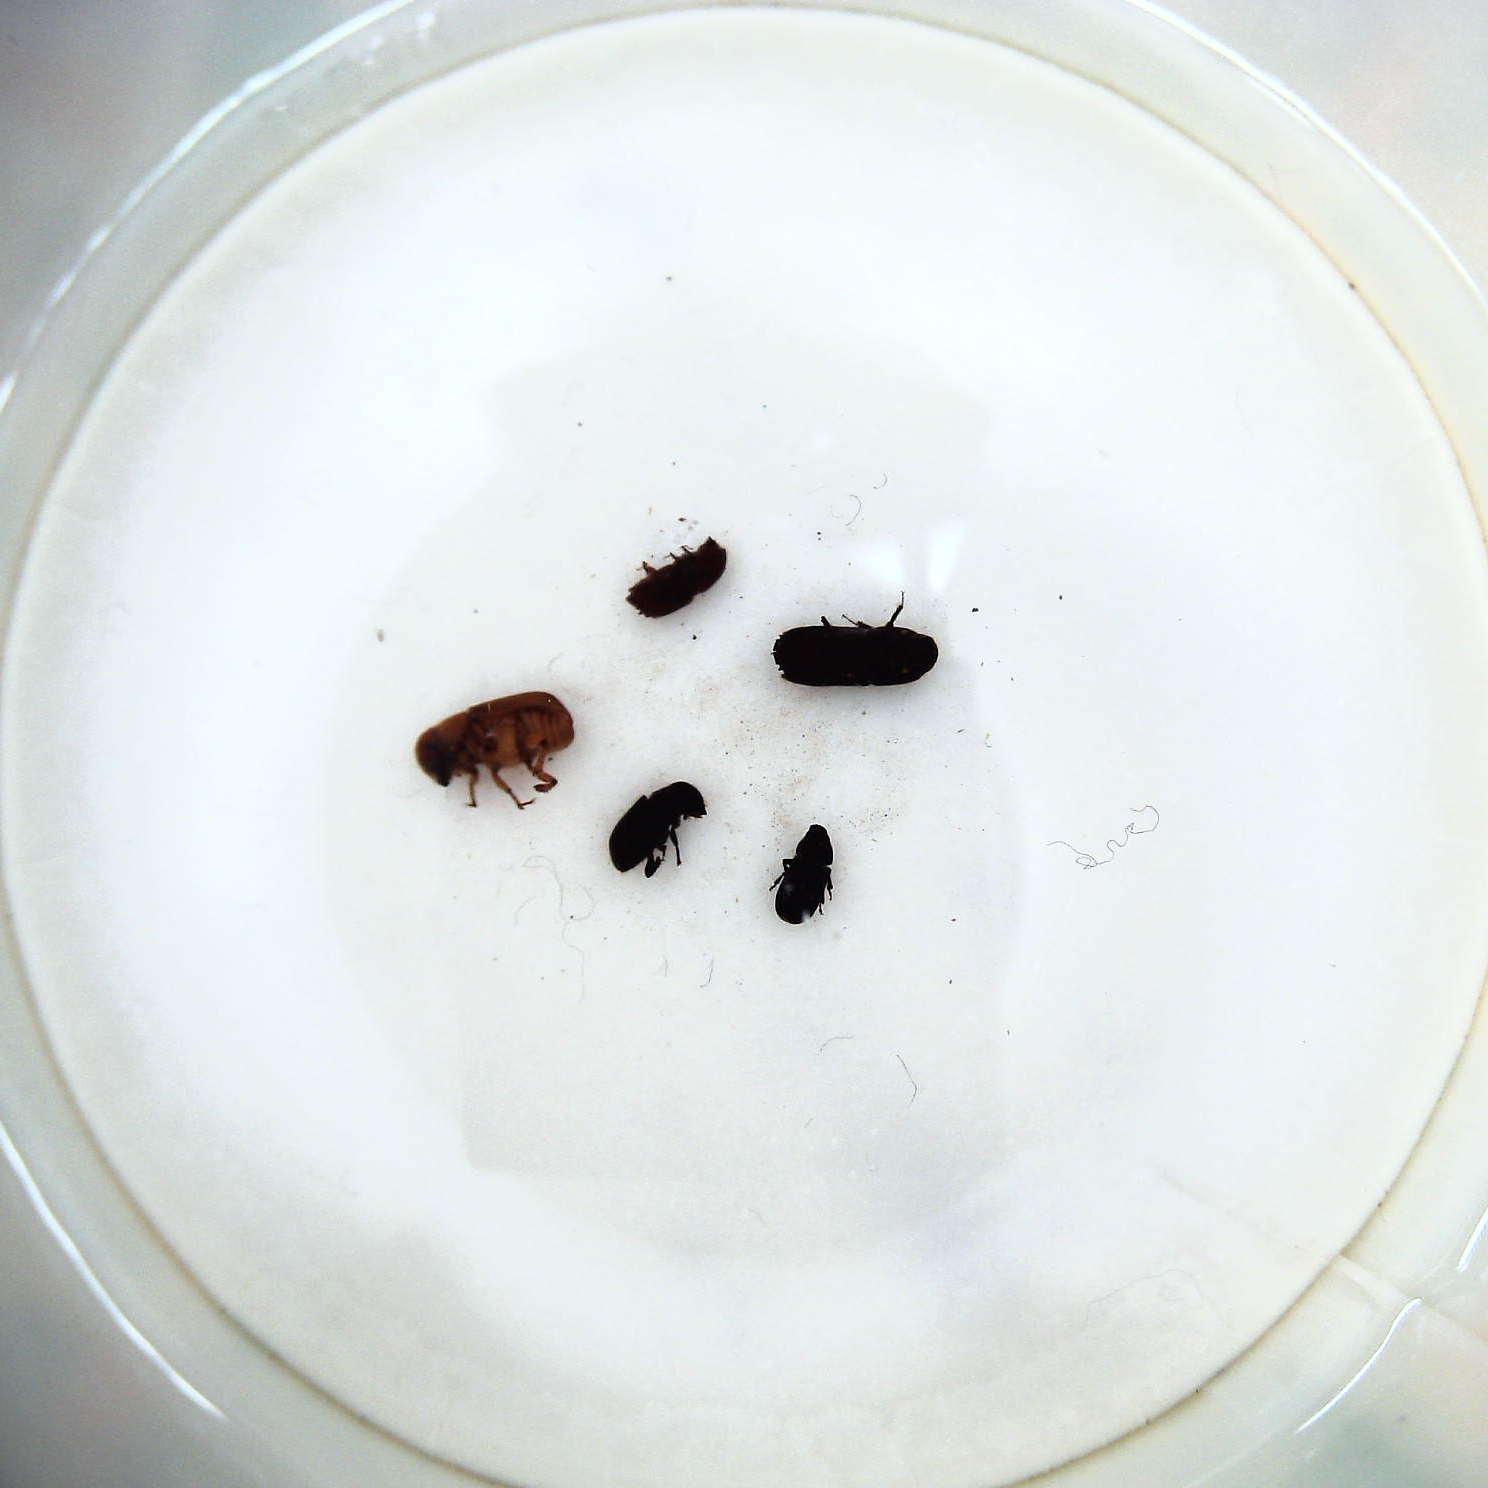Boerner: (769, 600, 942, 695)
Leconte: (413, 687, 580, 812)
armandi: (604, 779, 711, 880)
coleoptera: (773, 826, 839, 931)
linnaeus: (620, 536, 733, 621)
